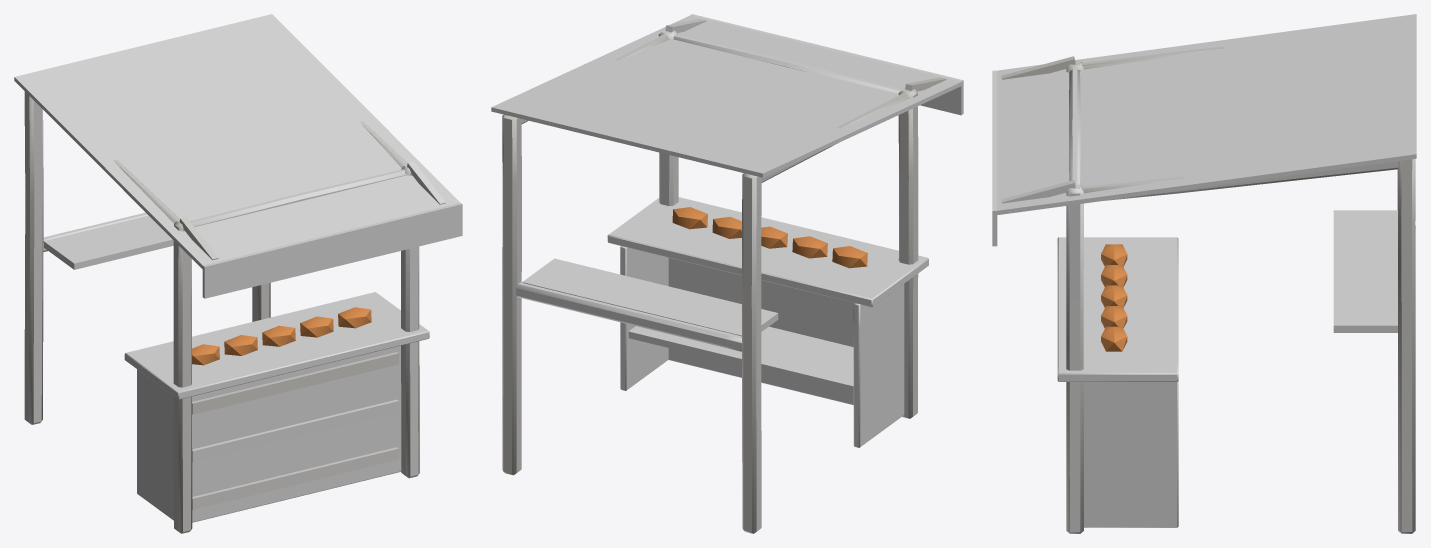
The model's file is Kit_RealStall_StallB.fbx.
3 renders of one model, left to right at view 1: azimuth 30°, elevation 25°; view 2: azimuth 150°, elevation 25°; view 3: azimuth 270°, elevation 25°, orthographic. The views are drawn at different scales.
Visible parts, largest first — view 1: Kit_RealStall_StallB_LOD0; view 2: Kit_RealStall_StallB_LOD0; view 3: Kit_RealStall_StallB_LOD0.
Part boxes in pixels (x1,y1,x2,y2): Kit_RealStall_StallB_LOD0: (14, 14, 462, 533); Kit_RealStall_StallB_LOD0: (491, 14, 963, 533); Kit_RealStall_StallB_LOD0: (992, 14, 1416, 533).
Size of what is drawn, in the model's own units: 1.7 by 2.18 by 2.17.
